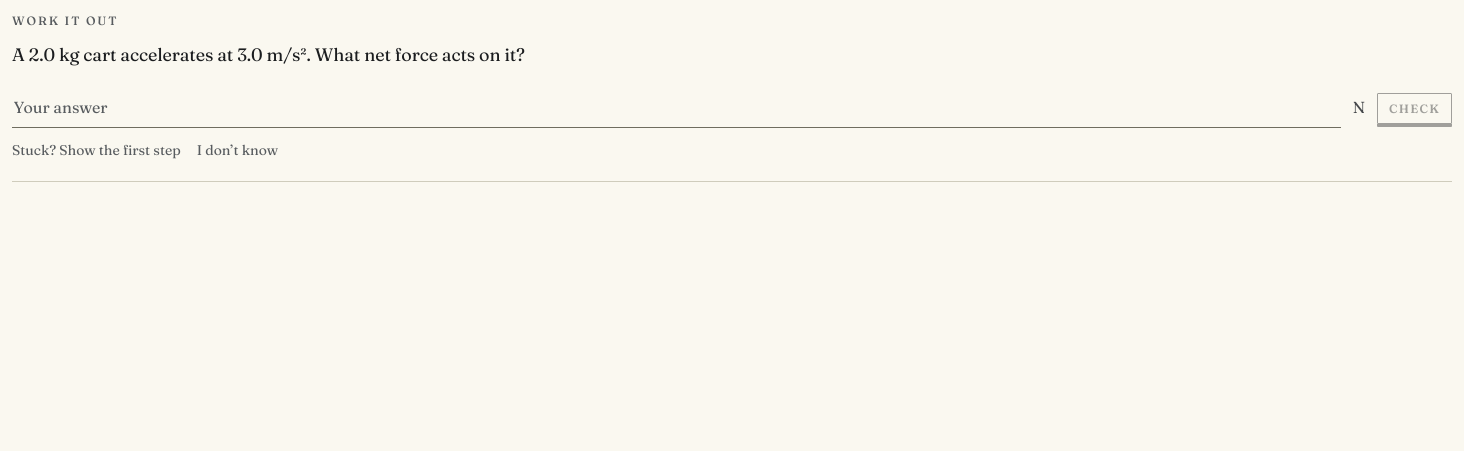
Test: ProblemCard, a number to check › I don’t know shows the answer and the solution, as a miss
Click the button "I don’t know". click: (237, 150)
box: x1=197 y1=140 x2=278 y2=161
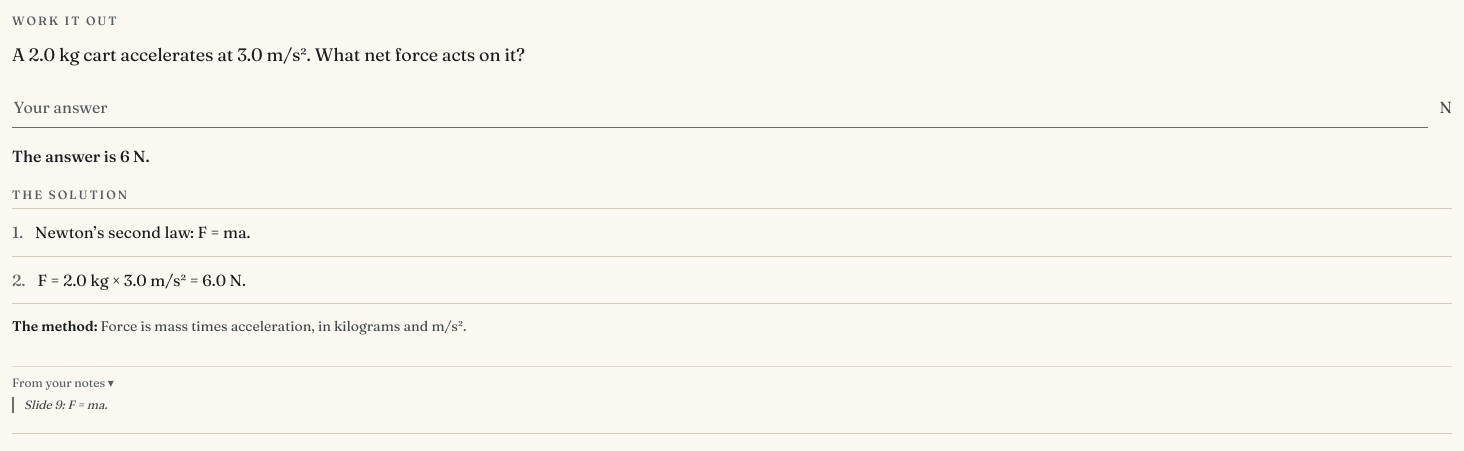
Expected: the text "The answer is 6 N." is shown, x1=12 y1=146 x2=150 y2=166
Expected: the text "F = 2.0 kg × 3.0 m/s² = 6.0 N." is shown, x1=37 y1=267 x2=246 y2=293
